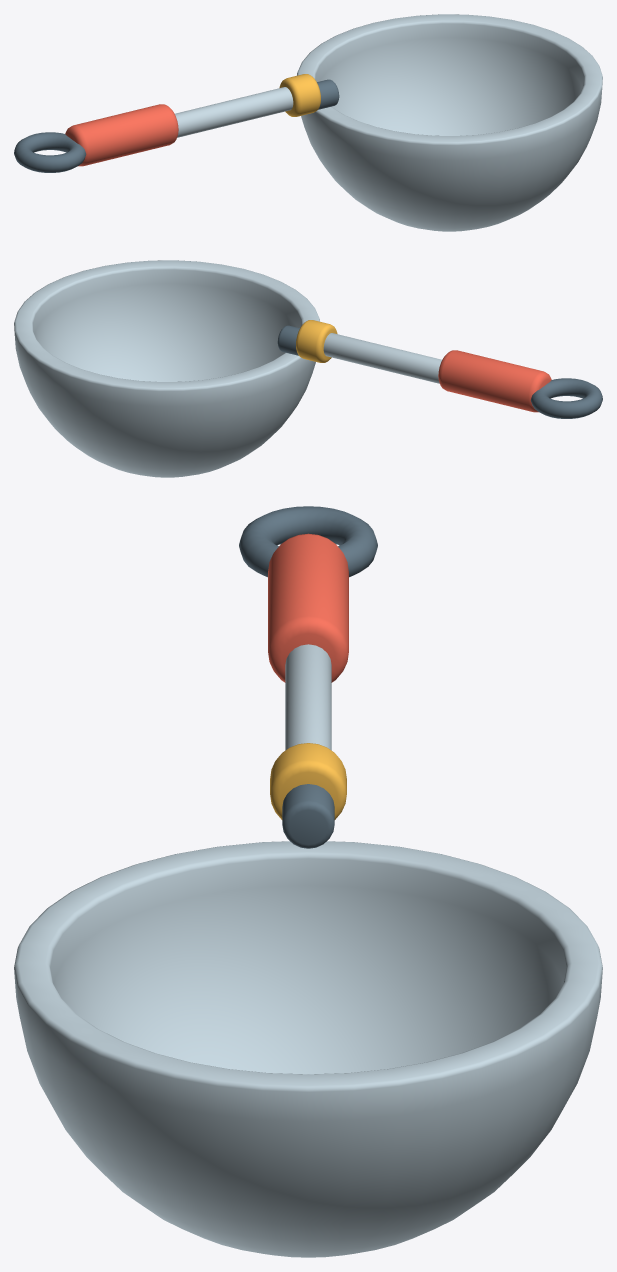
The model's file is Ladle.glb.
The picture shows the model from 3 angles, top to bottom: view 1: azimuth 30°, elevation 25°; view 2: azimuth 150°, elevation 25°; view 3: azimuth 270°, elevation 25°; orthographic projection. The views are drawn at different scales.
Visible parts, largest first — view 1: Ladle_Bowl, Ladle_HandleGrip, Ladle_Handle, Ladle_PivotEye, Ladle_Collar, Ladle_Neck; view 2: Ladle_Bowl, Ladle_HandleGrip, Ladle_Handle, Ladle_PivotEye, Ladle_Collar, Ladle_Neck; view 3: Ladle_Bowl, Ladle_HandleGrip, Ladle_PivotEye, Ladle_Handle, Ladle_Collar, Ladle_Neck.
Boxes of the visible parts, left/top/right/bottom form: Ladle_Bowl: left=297, top=14, right=602, bottom=231; Ladle_HandleGrip: left=65, top=104, right=178, bottom=166; Ladle_Handle: left=175, top=87, right=293, bottom=137; Ladle_PivotEye: left=14, top=132, right=86, bottom=172; Ladle_Collar: left=279, top=74, right=320, bottom=116; Ladle_Neck: left=317, top=79, right=339, bottom=109; Ladle_Bowl: left=14, top=260, right=319, bottom=477; Ladle_HandleGrip: left=438, top=350, right=551, bottom=412; Ladle_Handle: left=323, top=333, right=441, bottom=383; Ladle_PivotEye: left=530, top=378, right=602, bottom=418; Ladle_Collar: left=296, top=320, right=337, bottom=362; Ladle_Neck: left=277, top=325, right=299, bottom=355; Ladle_Bowl: left=14, top=841, right=602, bottom=1257; Ladle_HandleGrip: left=268, top=533, right=348, bottom=682; Ladle_PivotEye: left=239, top=506, right=377, bottom=577; Ladle_Handle: left=285, top=644, right=331, bottom=750; Ladle_Collar: left=270, top=743, right=346, bottom=819; Ladle_Neck: left=282, top=784, right=334, bottom=848.
Bounding box in the file's own units: 6.18 × 1.9 × 2.92.
